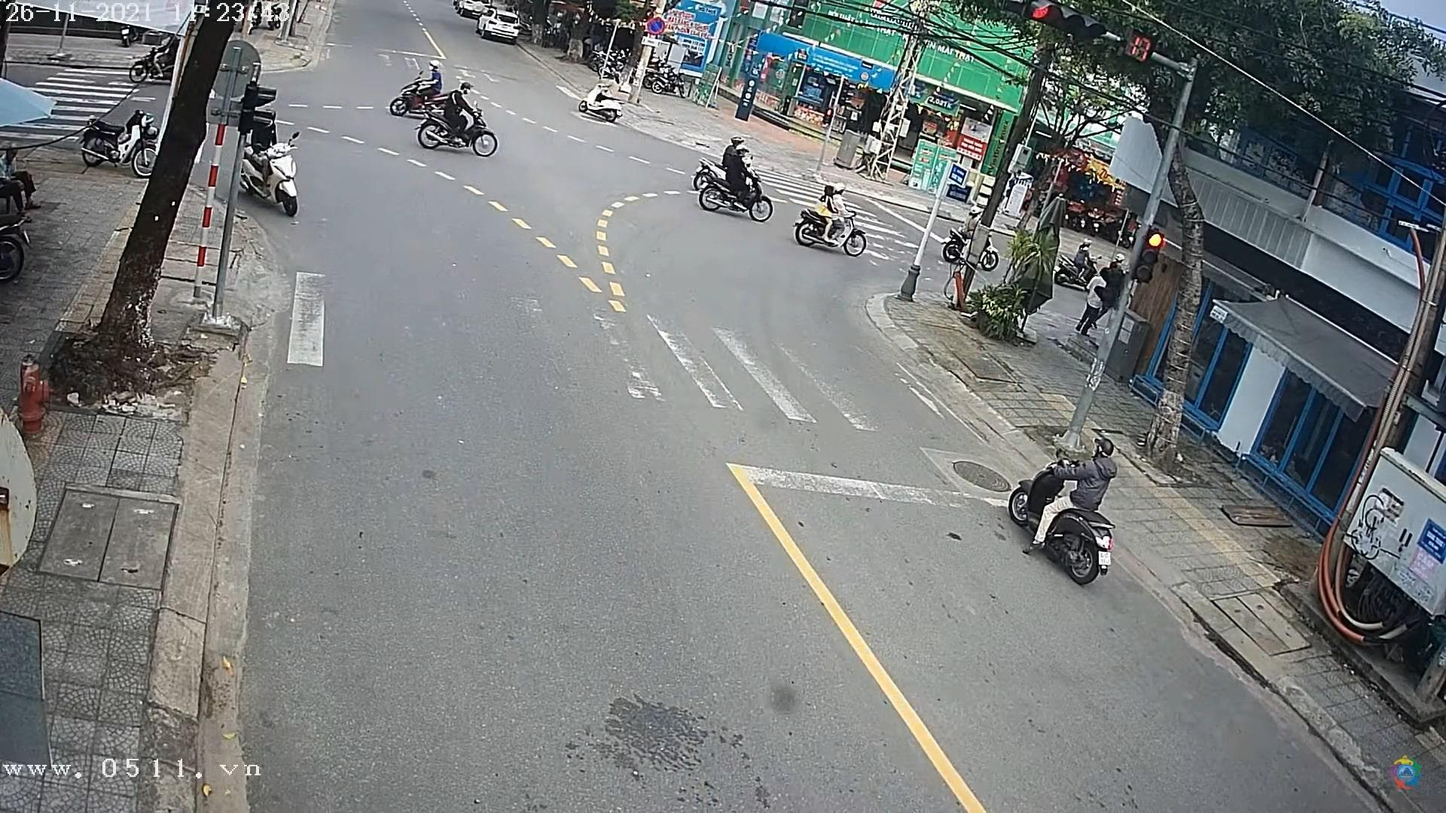motorbike: (1010, 460, 1117, 584), (239, 140, 305, 223), (413, 95, 496, 154), (795, 206, 871, 257), (701, 174, 777, 222), (582, 87, 624, 126)
